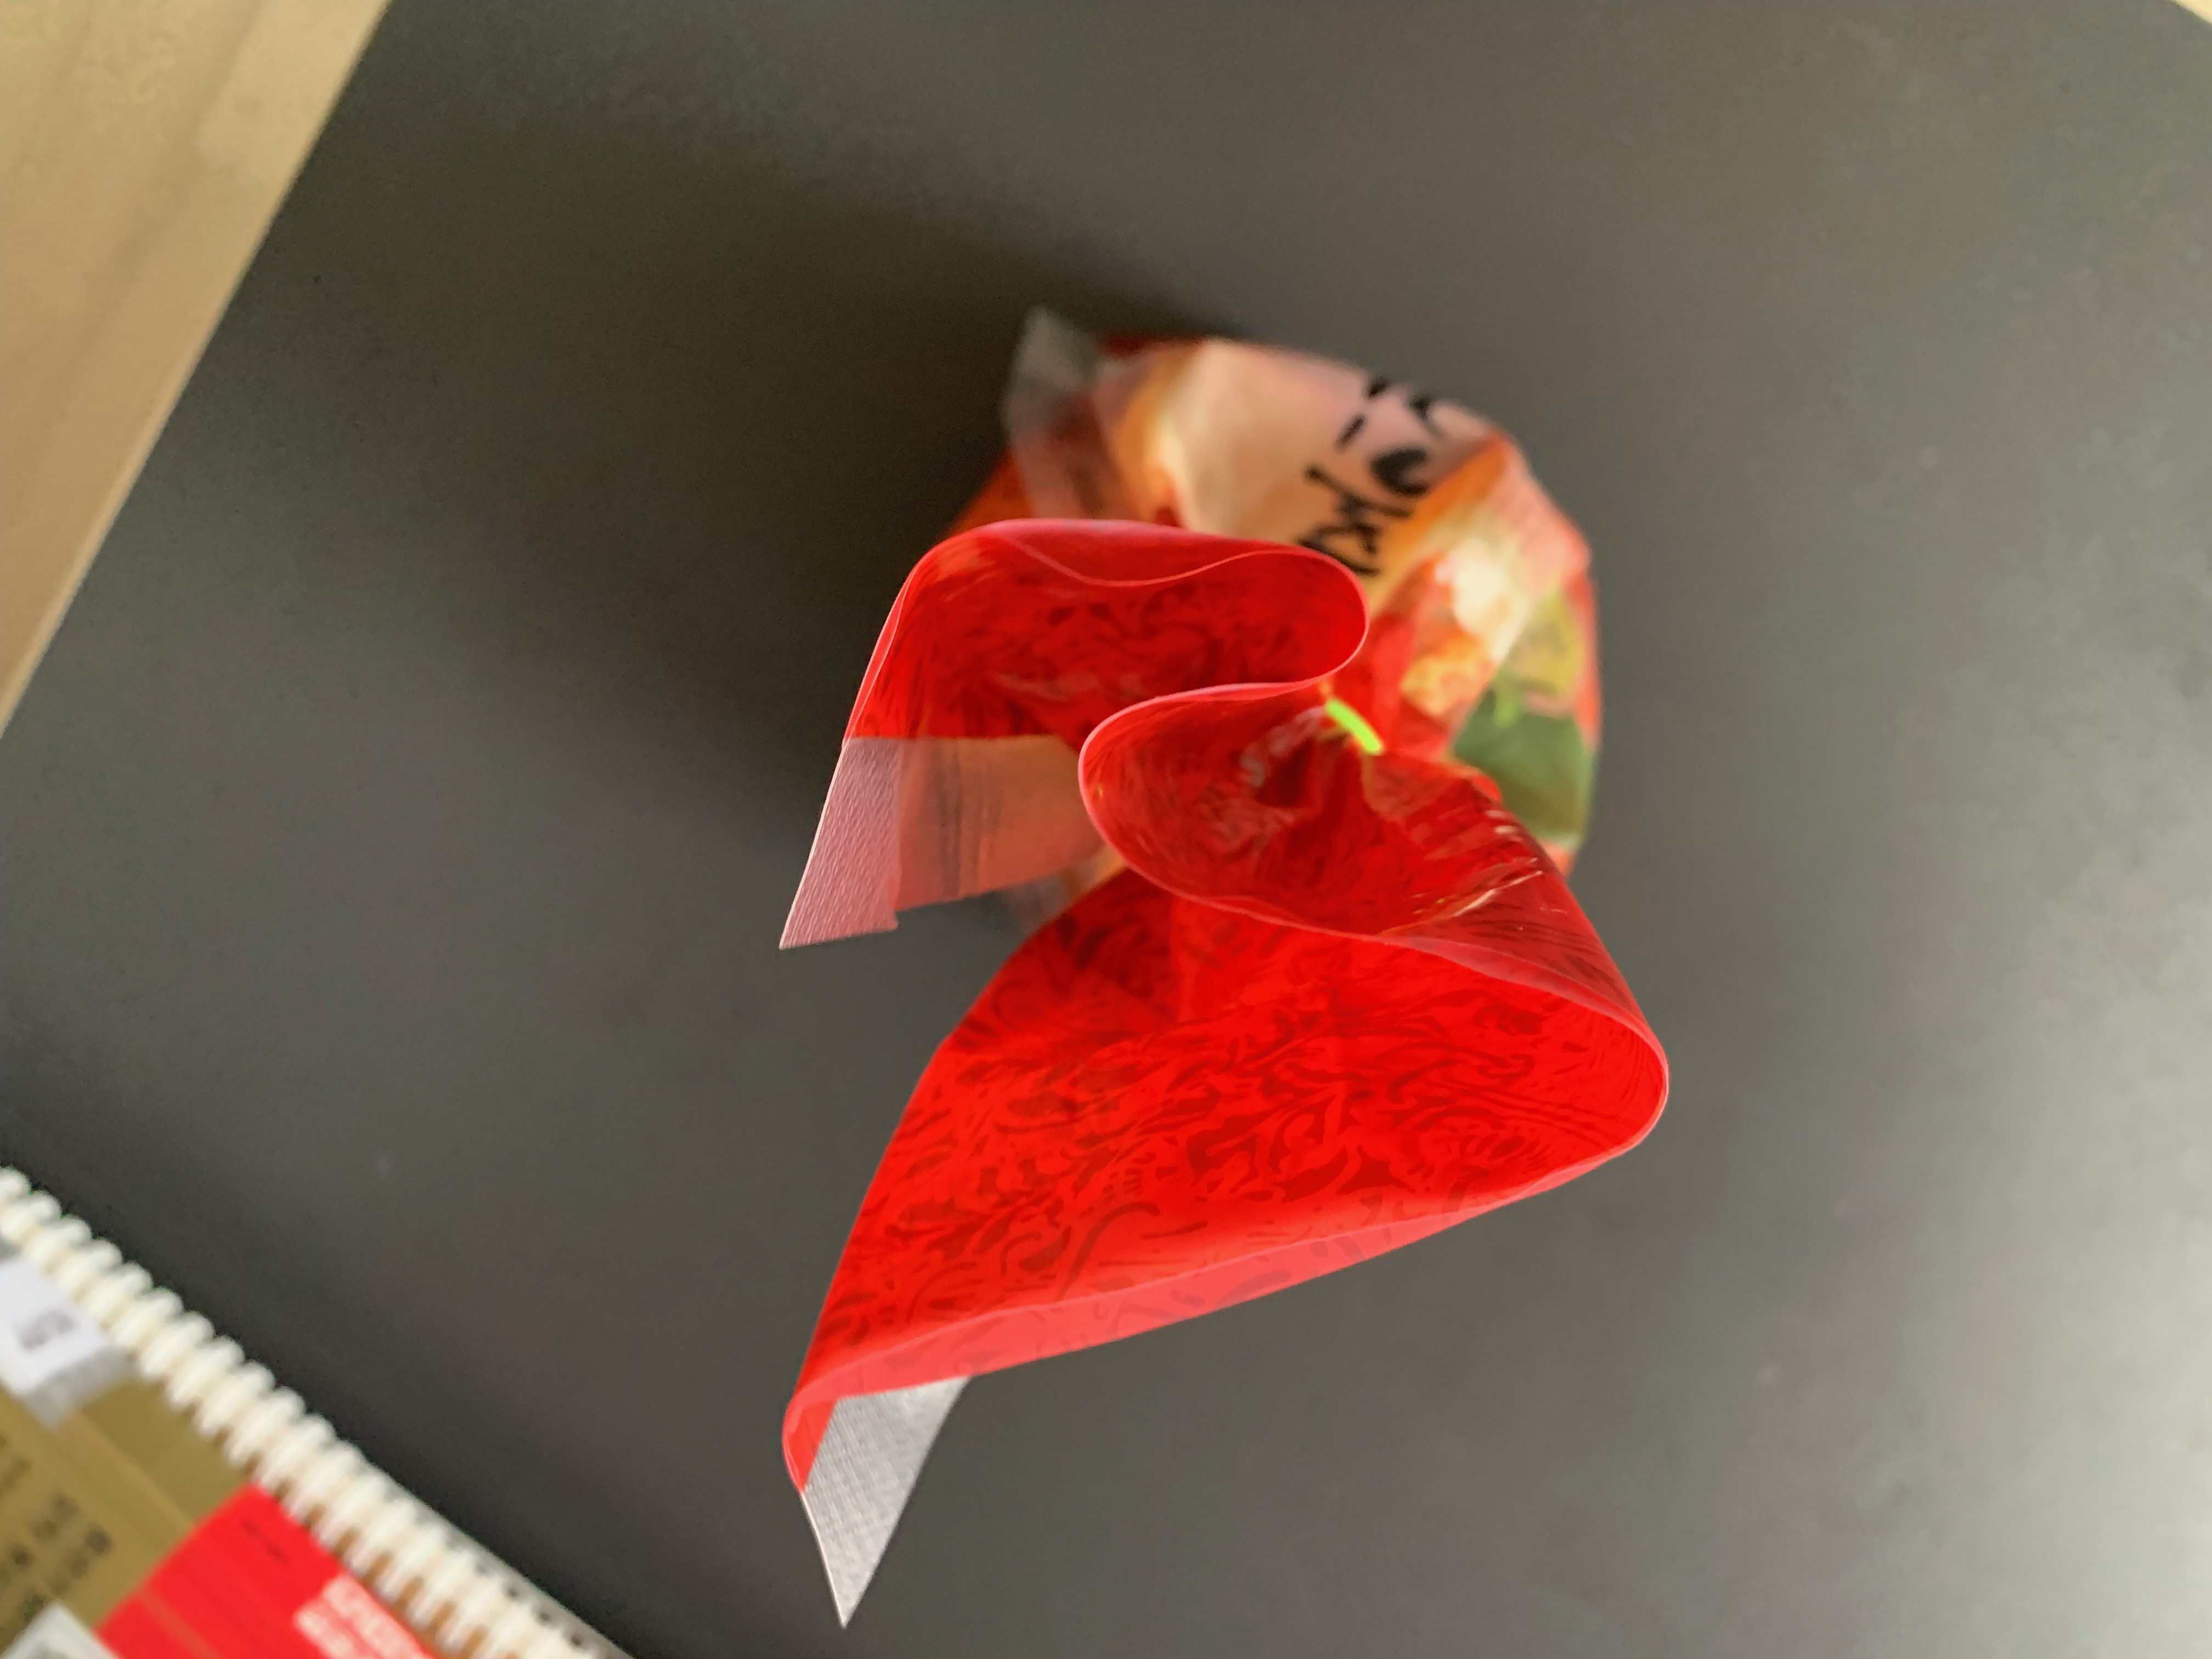kimchi: (833, 338, 1662, 1385)
